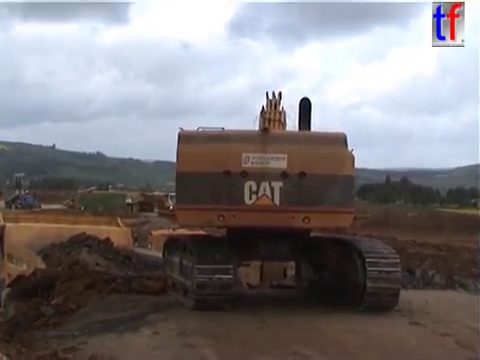excavator: (156, 86, 407, 315)
truck: (1, 214, 206, 360), (145, 225, 237, 299), (123, 191, 180, 220)
